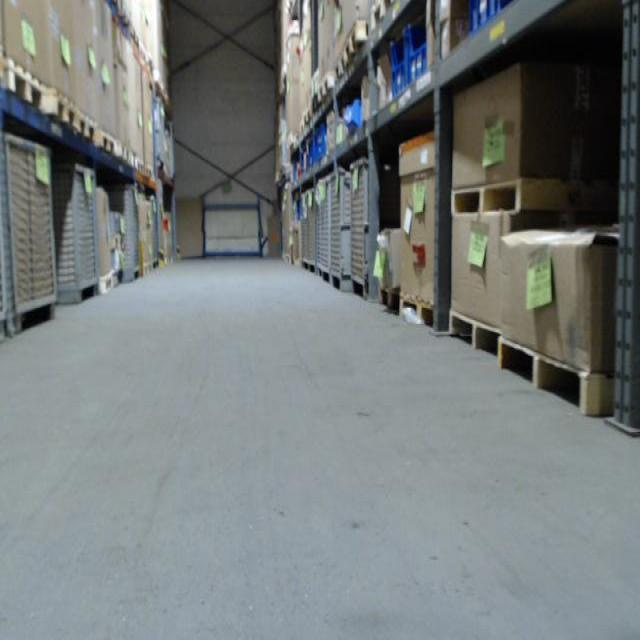pallet: (499, 338, 615, 416), (451, 176, 620, 218), (2, 56, 51, 116), (447, 311, 500, 358), (397, 291, 436, 329), (344, 20, 368, 69), (53, 90, 78, 132), (370, 0, 395, 31), (78, 111, 99, 146), (98, 128, 117, 157), (318, 71, 334, 104), (377, 289, 402, 307), (334, 53, 345, 85)
small_load_carrier: (408, 12, 438, 87), (395, 26, 412, 100), (469, 1, 499, 37)
stillage: (4, 138, 54, 339), (56, 159, 99, 303), (349, 161, 376, 307), (328, 167, 347, 294), (119, 179, 137, 286), (317, 175, 328, 281), (310, 187, 317, 281)
